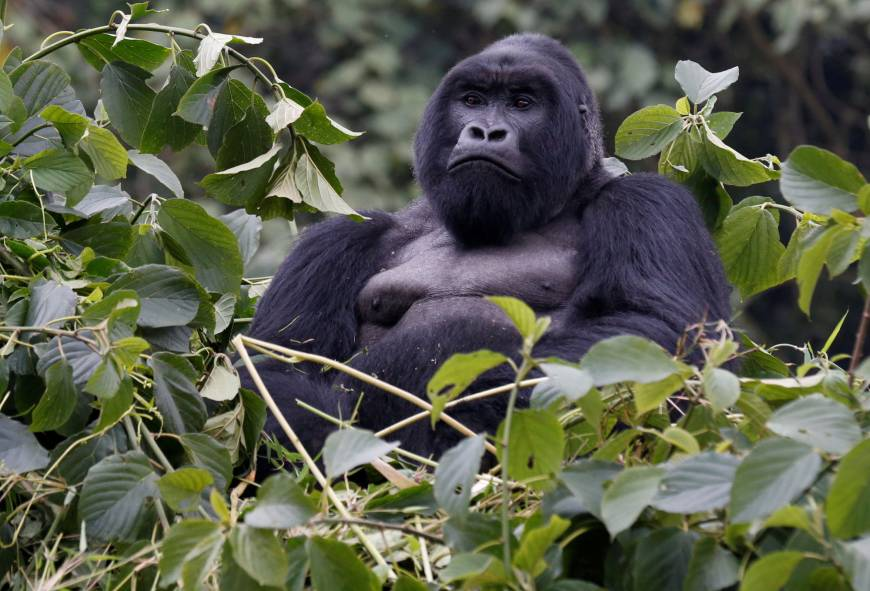Goriila: (271, 40, 764, 474)
